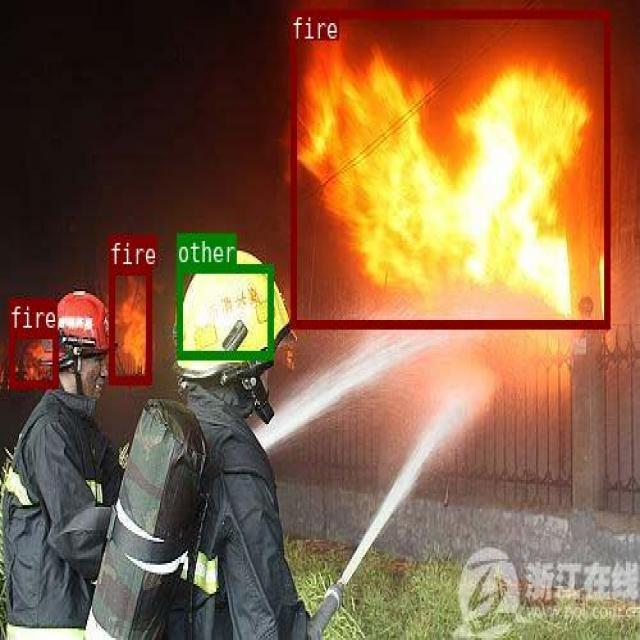fire: (291, 8, 609, 326), (109, 265, 150, 383), (8, 329, 57, 387)
